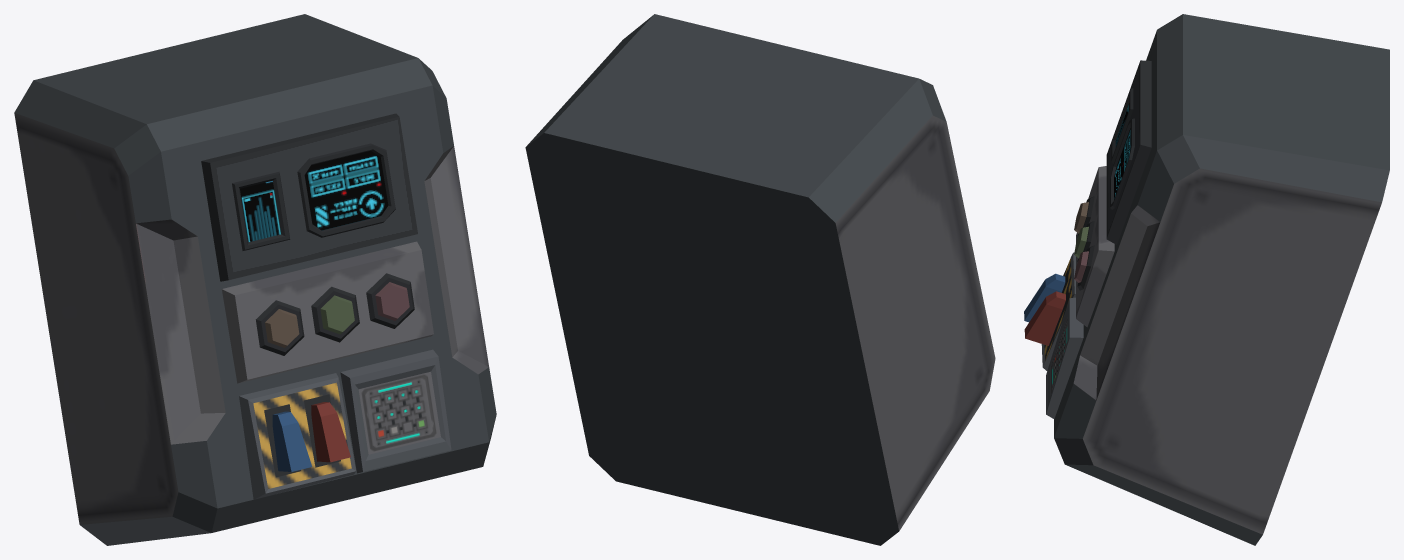
The model's file is SM_Prop_Pipe_Attatchment_01.fbx.
3 views of the same model, side by side, from view 1: azimuth 30°, elevation 25°; view 2: azimuth 150°, elevation 25°; view 3: azimuth 270°, elevation 25° (orthographic). The views are drawn at different scales.
Visible parts, largest first — view 1: SM_Prop_Pipe_Attatchment_01; view 2: SM_Prop_Pipe_Attatchment_01; view 3: SM_Prop_Pipe_Attatchment_01.
Boxes of the visible parts, bbox=[...] form: SM_Prop_Pipe_Attatchment_01: bbox=[14, 14, 496, 545]; SM_Prop_Pipe_Attatchment_01: bbox=[525, 14, 995, 545]; SM_Prop_Pipe_Attatchment_01: bbox=[1024, 14, 1389, 545].
Size of the model in its own units: 49.61 by 67.13 by 54.14.
